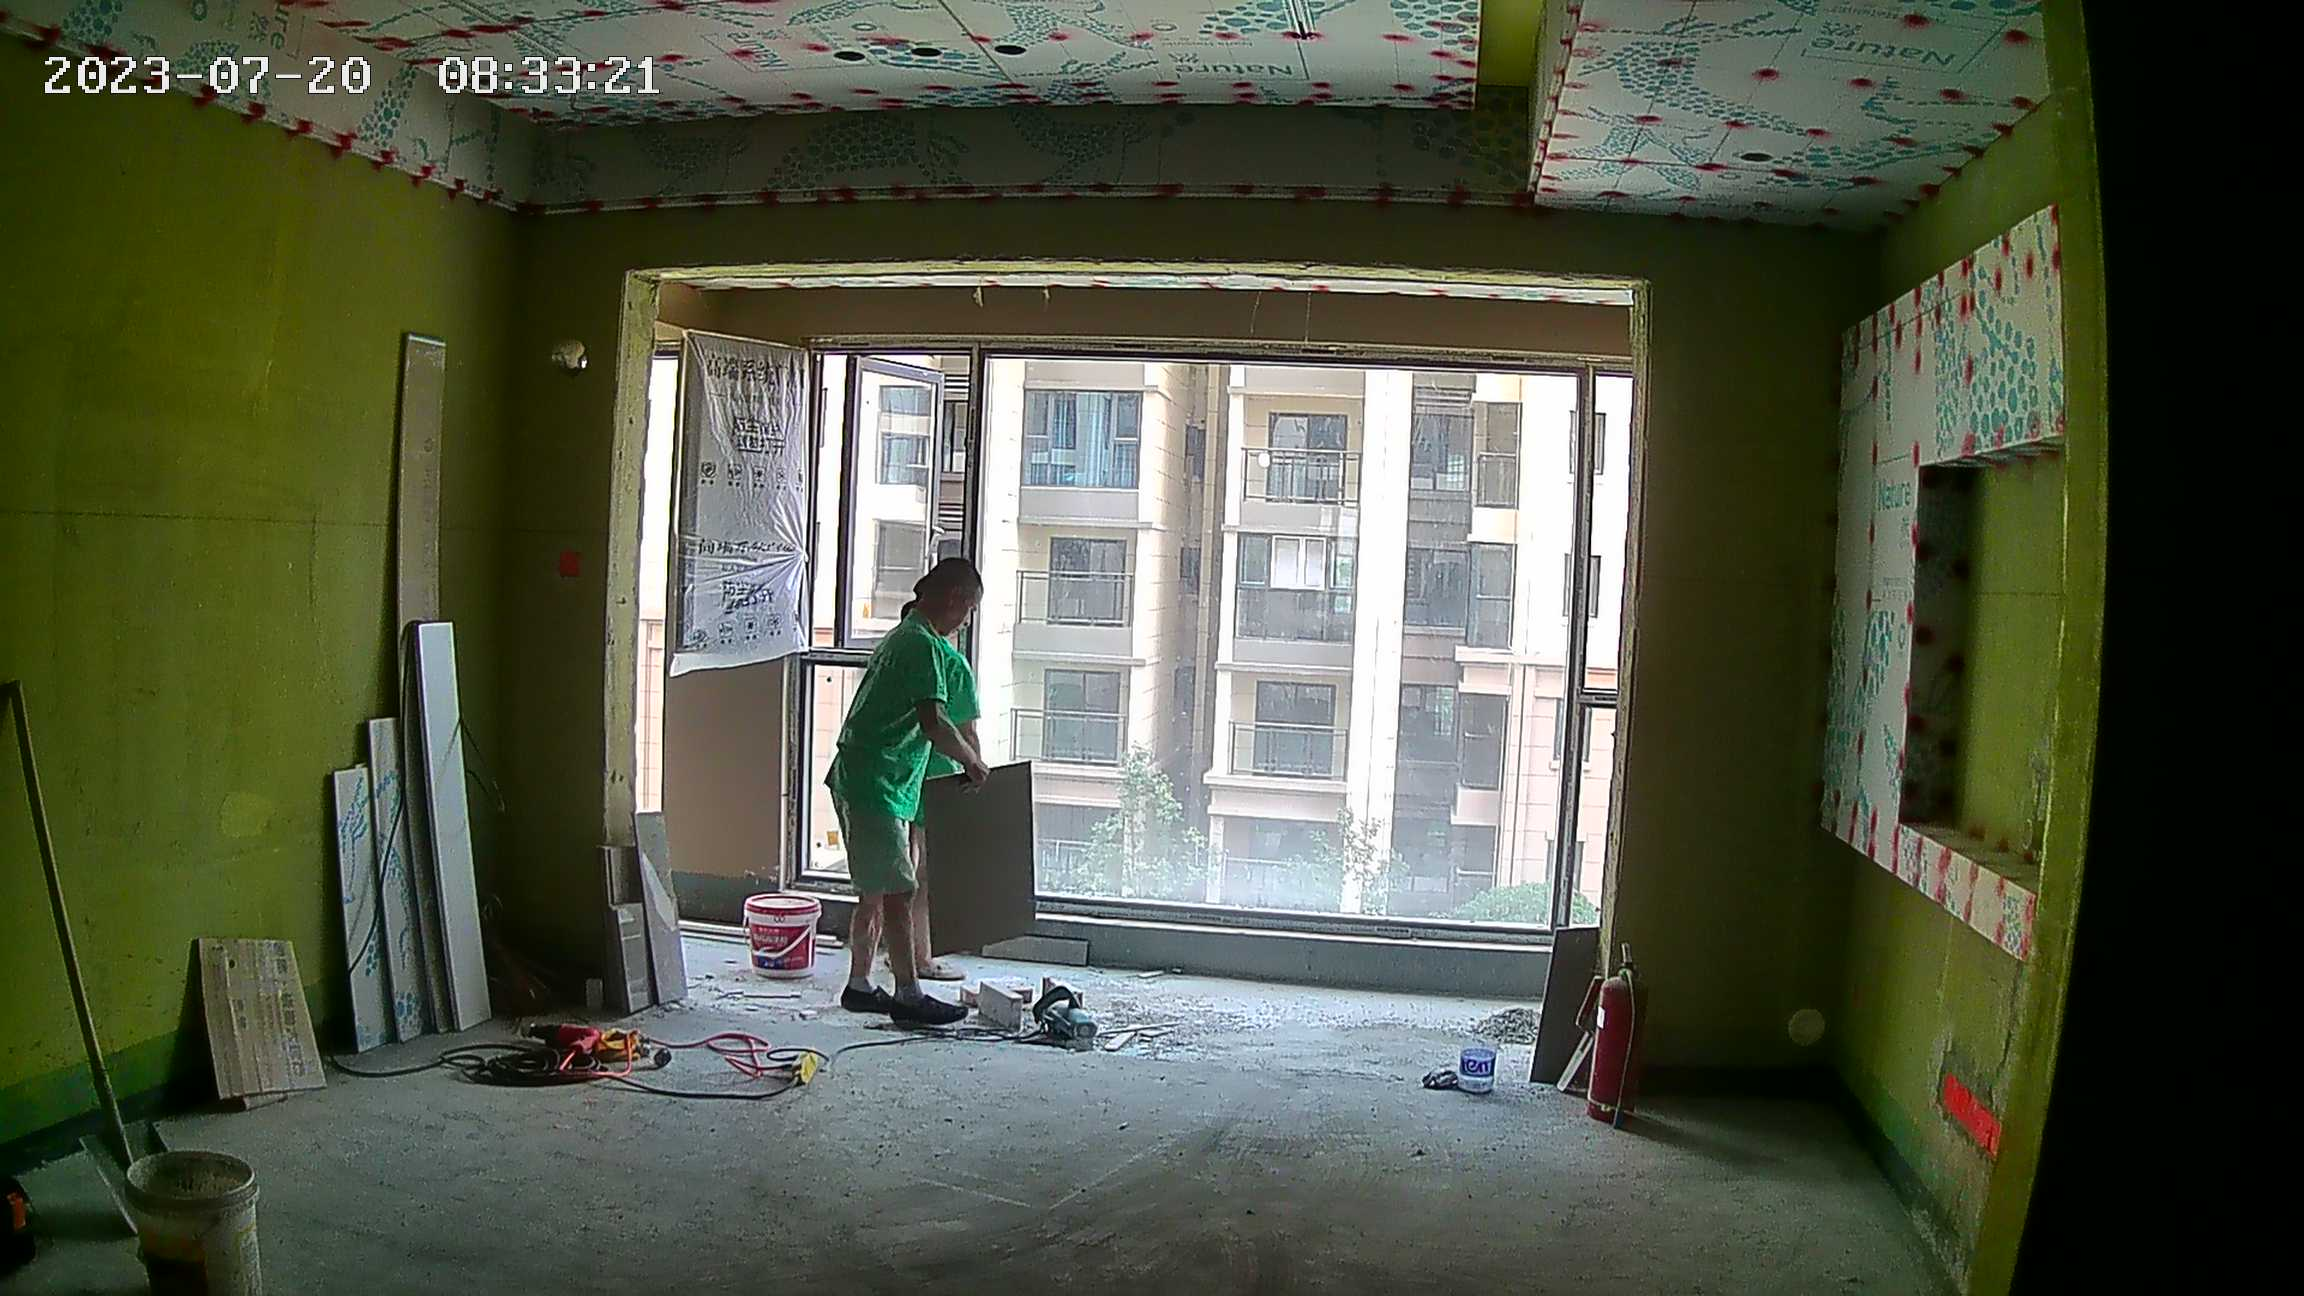people: (822, 555, 985, 1027)
window: (798, 346, 1621, 955)
